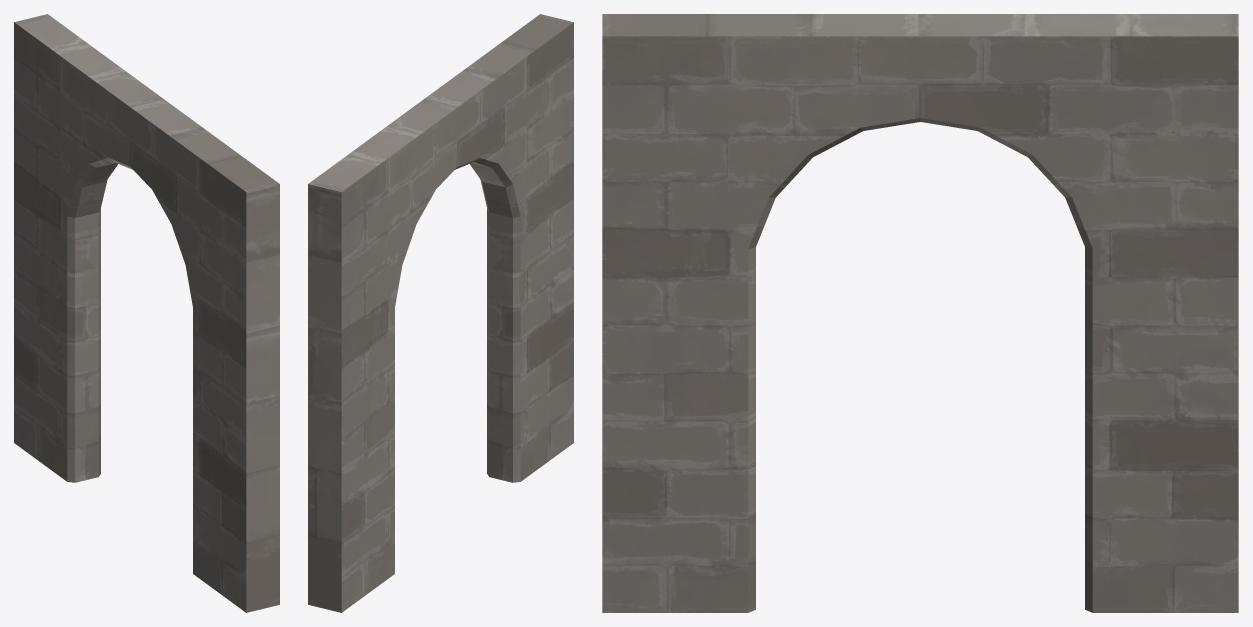
The model's file is SM_Wall_Open_Arch.fbx.
3 renders of one model, left to right at view 1: azimuth 30°, elevation 25°; view 2: azimuth 150°, elevation 25°; view 3: azimuth 270°, elevation 25°, orthographic. The views are drawn at different scales.
Visible parts, largest first — view 1: SM_Wall_Open_Arch_LOD0; view 2: SM_Wall_Open_Arch_LOD0; view 3: SM_Wall_Open_Arch_LOD0.
Part boxes in pixels (x1,y1,x2,y2): SM_Wall_Open_Arch_LOD0: (14,14,279,612); SM_Wall_Open_Arch_LOD0: (308,14,573,612); SM_Wall_Open_Arch_LOD0: (602,14,1238,612).
Bounding box in the file's own units: 50 × 600 × 600.
Materials: 1 (1 with a texture image).
